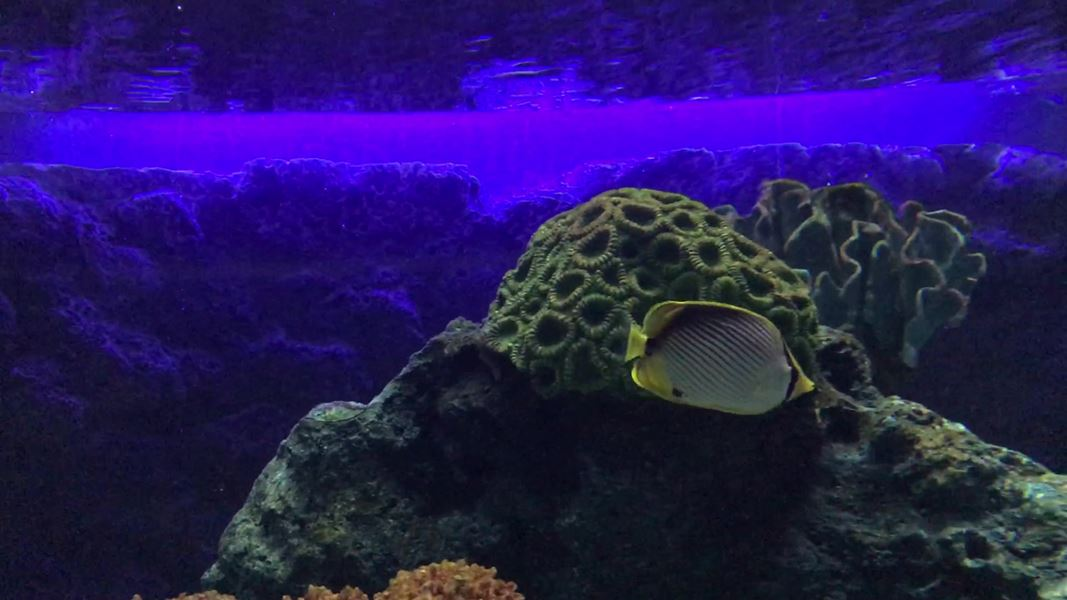Black-backed butterflyfish: (601, 291, 825, 427)
